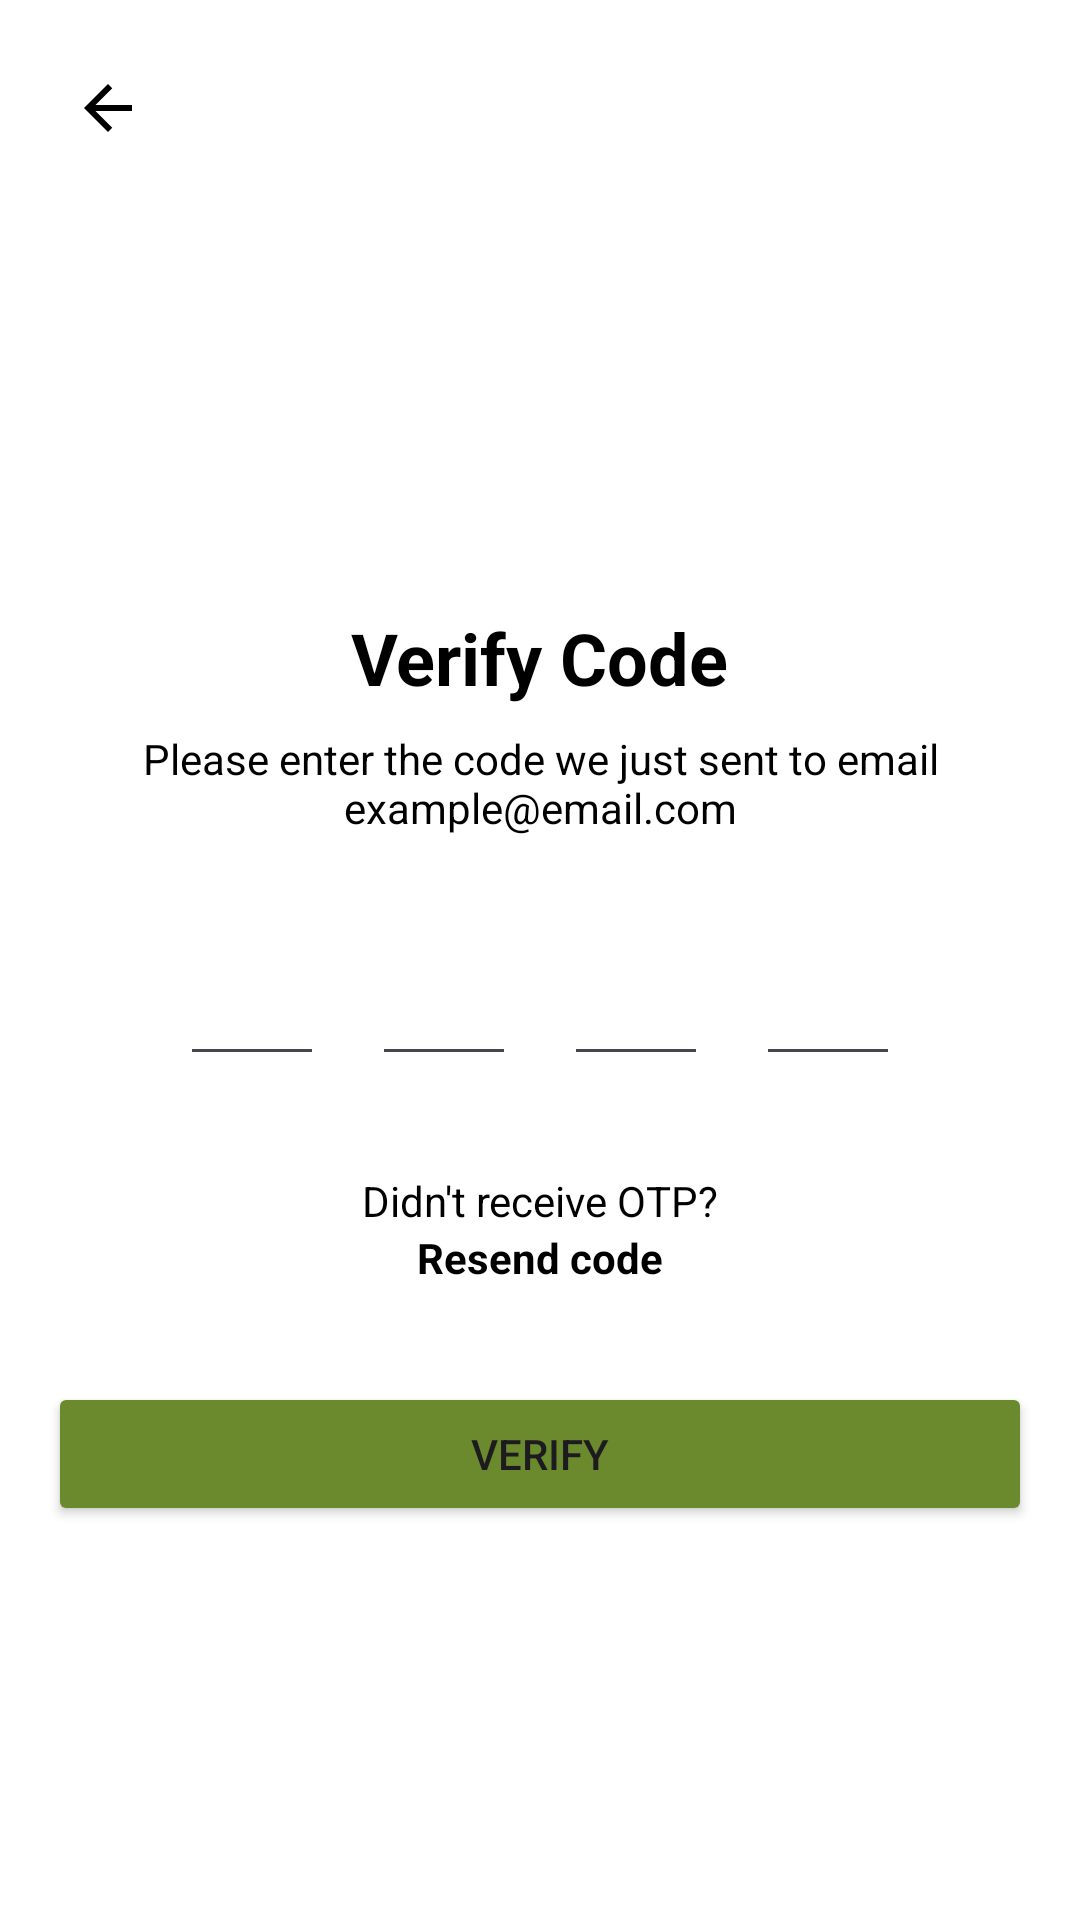

Screen size 1080px×1920px. Icon name, then its center in pixels as point (x, y):
arrow back: point (108, 108)
